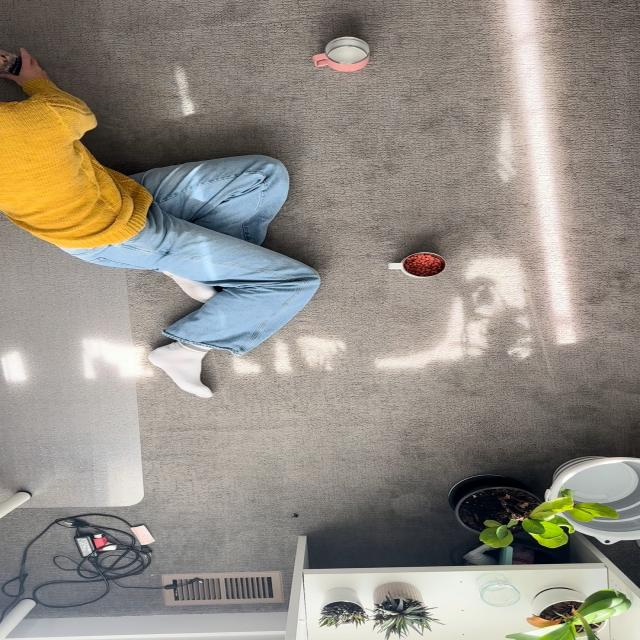IBC: (312, 37, 370, 72), (389, 252, 445, 278)
